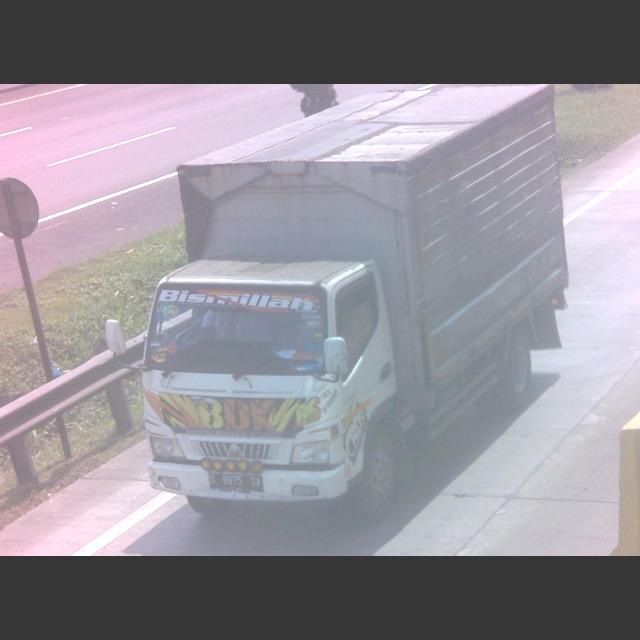plate: (206, 472, 266, 496)
